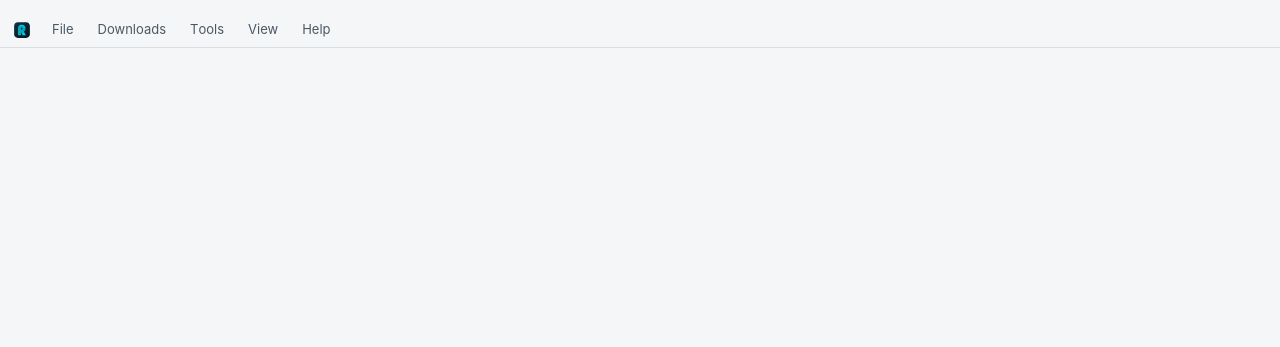
TitleBarComponent › in a plain browser › opens a menu on click and shows its rows with shortcut hints
What coordinates should you click on to do the following:
click the menu item with class "top-button" showing "F ile"
I would click on:
 (63, 30)
Its box is [40,16,86,44].
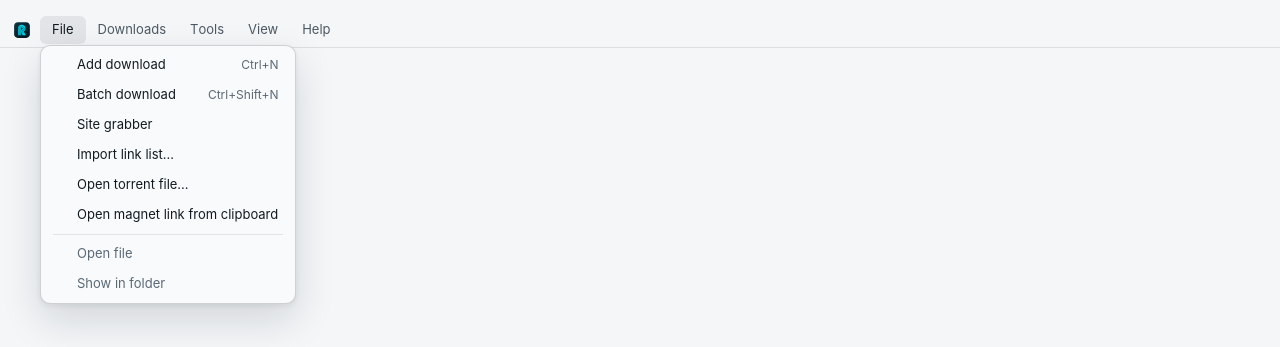
Check: the menu item with class "top-button" is expanded, box [40,16,86,44]
Check: the text "Ctrl+N" is shown, box [241,56,278,74]
